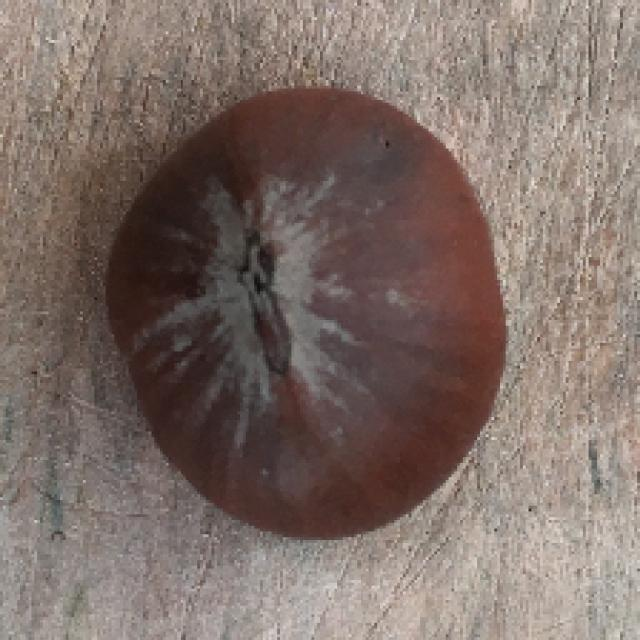damagedHazelnut: (98, 86, 516, 545)
